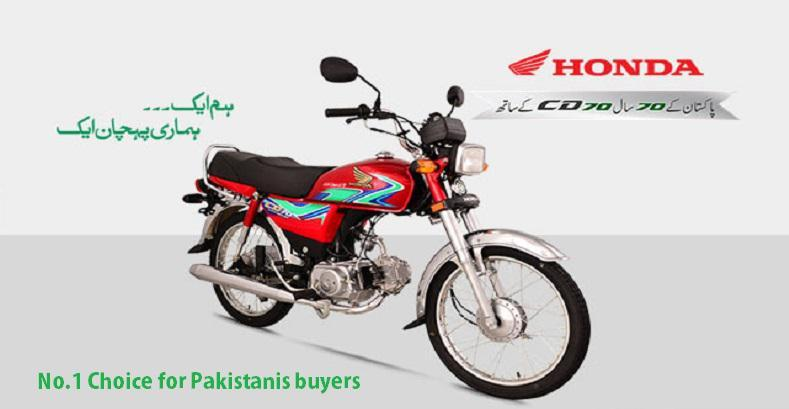bike: (185, 49, 592, 408)
